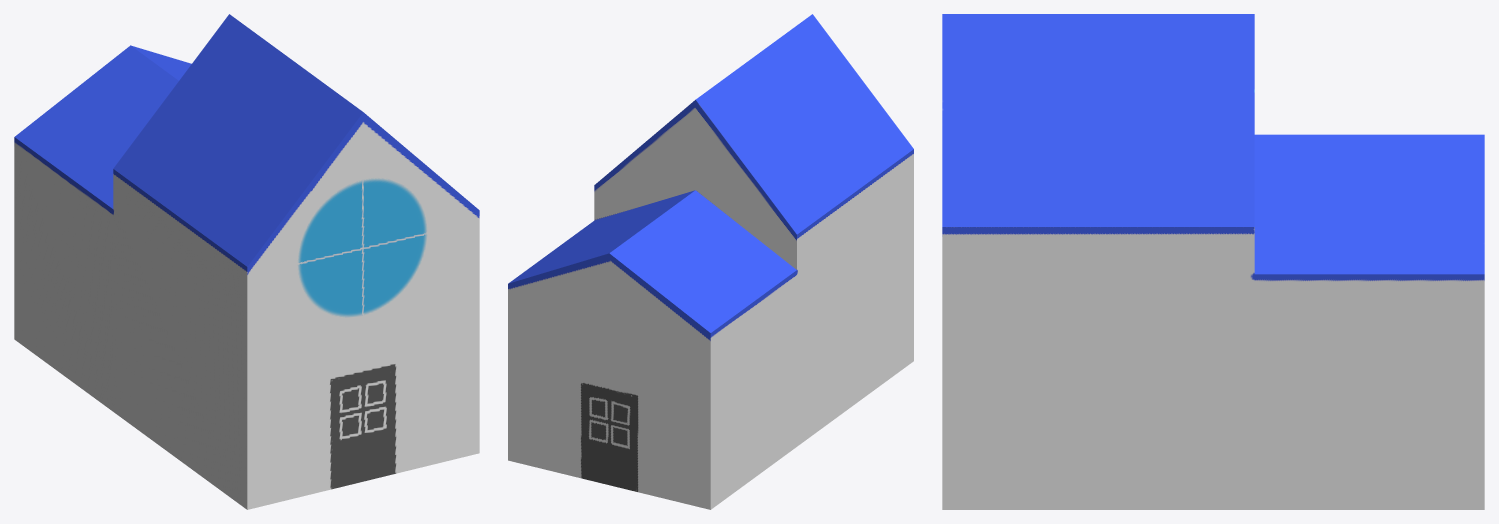
Rendered from House Long.fbx.
3 renders of one model, left to right at view 1: azimuth 30°, elevation 25°; view 2: azimuth 150°, elevation 25°; view 3: azimuth 270°, elevation 25°, orthographic. The views are drawn at different scales.
Visible parts, largest first — view 1: House Long; view 2: House Long; view 3: House Long.
Boxes of the visible parts, x1,y1,x2,y2 form: House Long: (14, 14, 479, 509); House Long: (508, 14, 913, 509); House Long: (942, 14, 1484, 509).
Bounding box in the file's own units: 3687 × 5606 × 6404.
